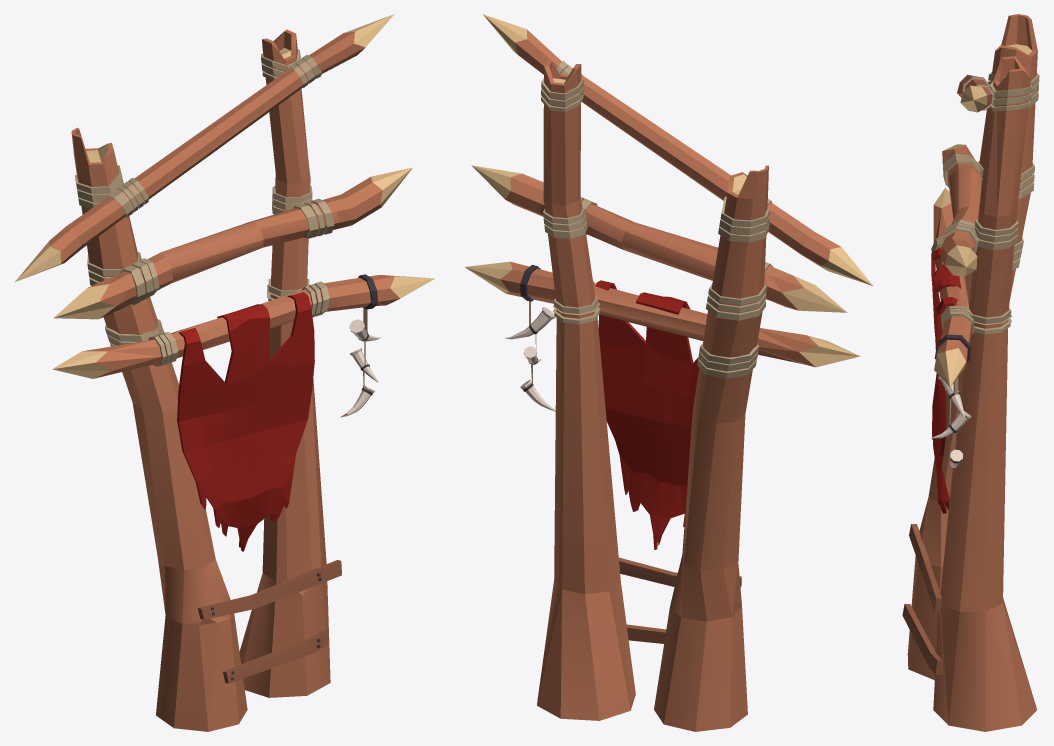
The model's file is TreeFlag.fbx.
The picture shows the model from 3 angles, left to right: view 1: azimuth 30°, elevation 25°; view 2: azimuth 150°, elevation 25°; view 3: azimuth 270°, elevation 25°; orthographic projection. The views are drawn at different scales.
Parts seen in each view (by area): view 1: TreeFlag; view 2: TreeFlag; view 3: TreeFlag.
Boxes of the visible parts, x1,y1,x2,y2 form: TreeFlag: [15, 14, 434, 731]; TreeFlag: [464, 14, 872, 731]; TreeFlag: [902, 14, 1039, 731].
Bounding box in the file's own units: 3.26 × 4.87 × 0.9107.
